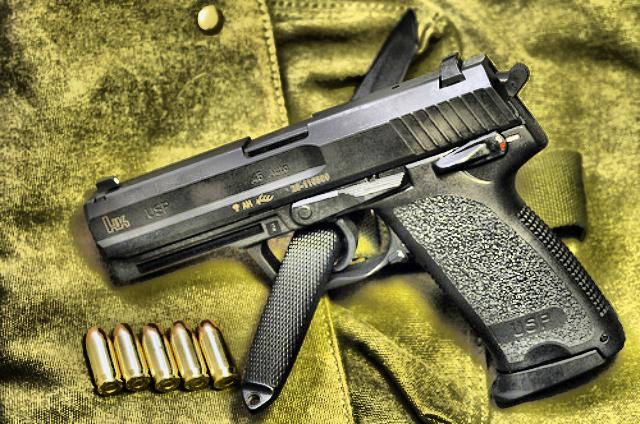pistol: (80, 51, 626, 410)
